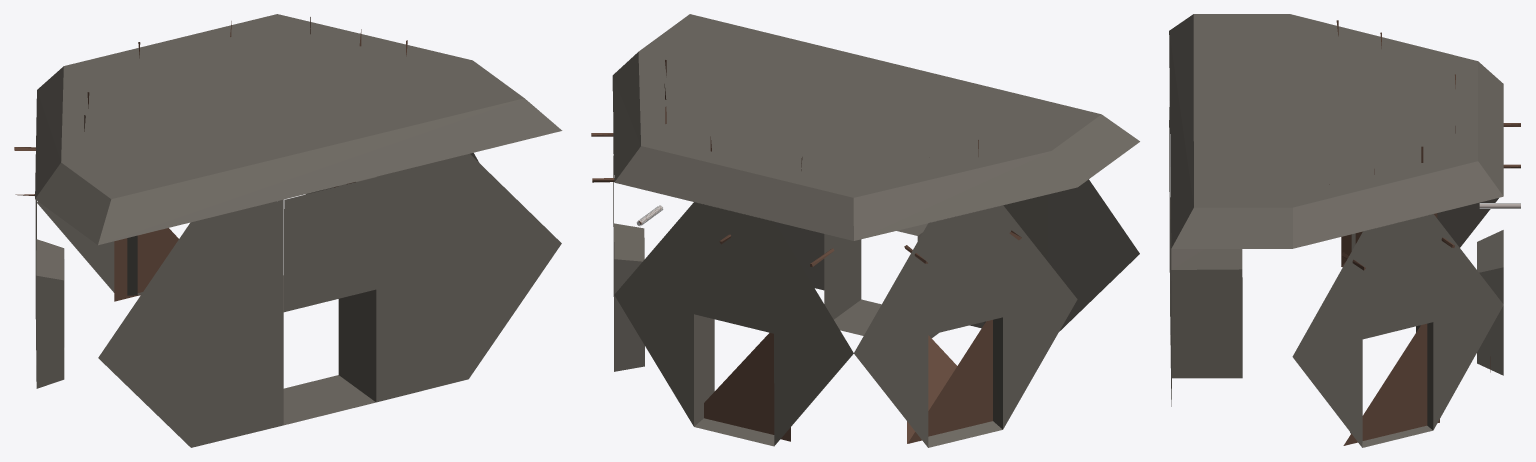
File: bw-bunker.zfix-v14.lod2.glb
The picture shows the model from 3 angles, left to right: view 1: azimuth 30°, elevation 25°; view 2: azimuth 150°, elevation 25°; view 3: azimuth 270°, elevation 25°; orthographic projection. The views are drawn at different scales.
Visible parts, largest first — view 1: Cube.001_0; view 2: Cube.001_0; view 3: Cube.001_0.
Part boxes in pixels (left/top/right/bottom): Cube.001_0: left=14, top=14, right=562, bottom=447; Cube.001_0: left=591, top=14, right=1139, bottom=447; Cube.001_0: left=1169, top=14, right=1520, bottom=447.
Size of the model in its own units: 9 by 5.05 by 6.15.
